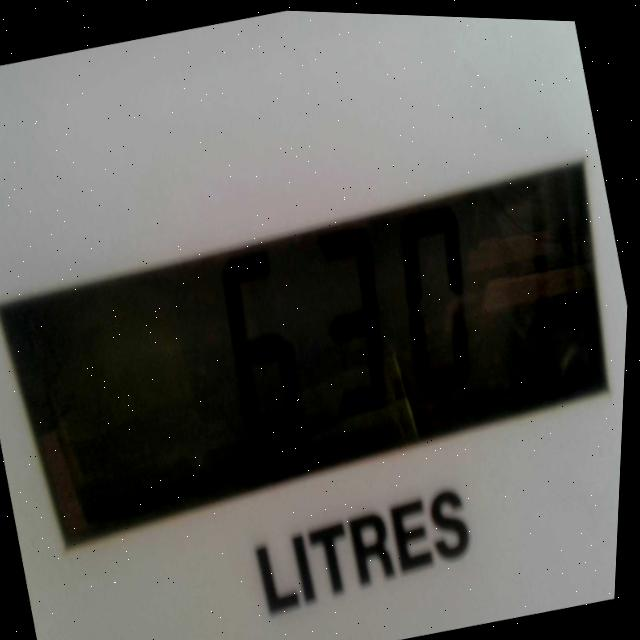.: (386, 352, 428, 420)
0: (375, 181, 511, 406)
1: (482, 158, 599, 386)
3: (291, 213, 418, 430)
6: (202, 235, 344, 456)
